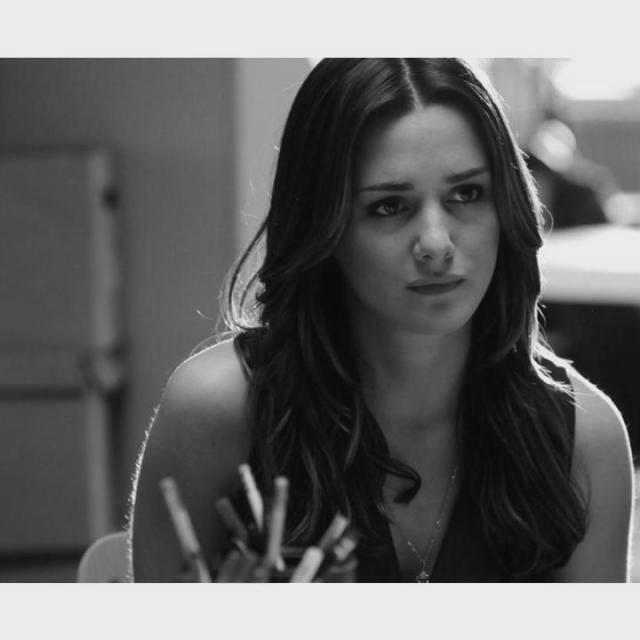real: (320, 88, 516, 342)
